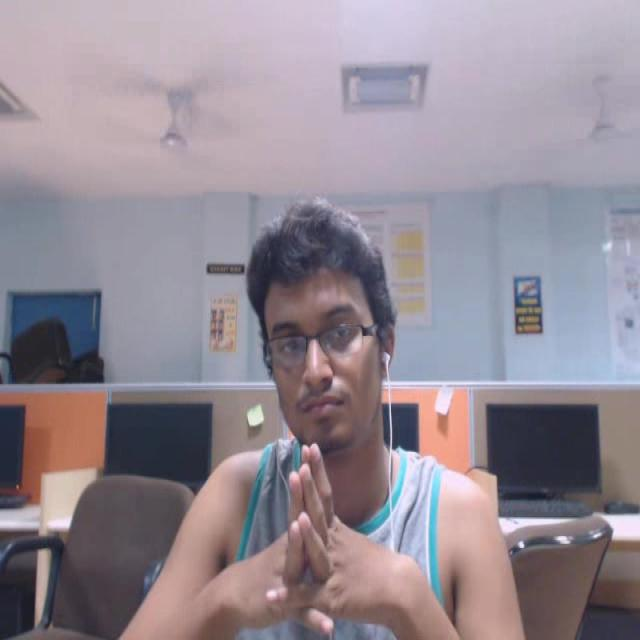Engaged: (220, 190, 450, 491)
